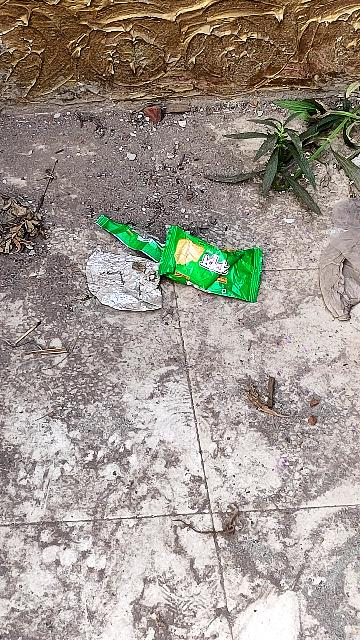packet: (142, 211, 273, 305)
